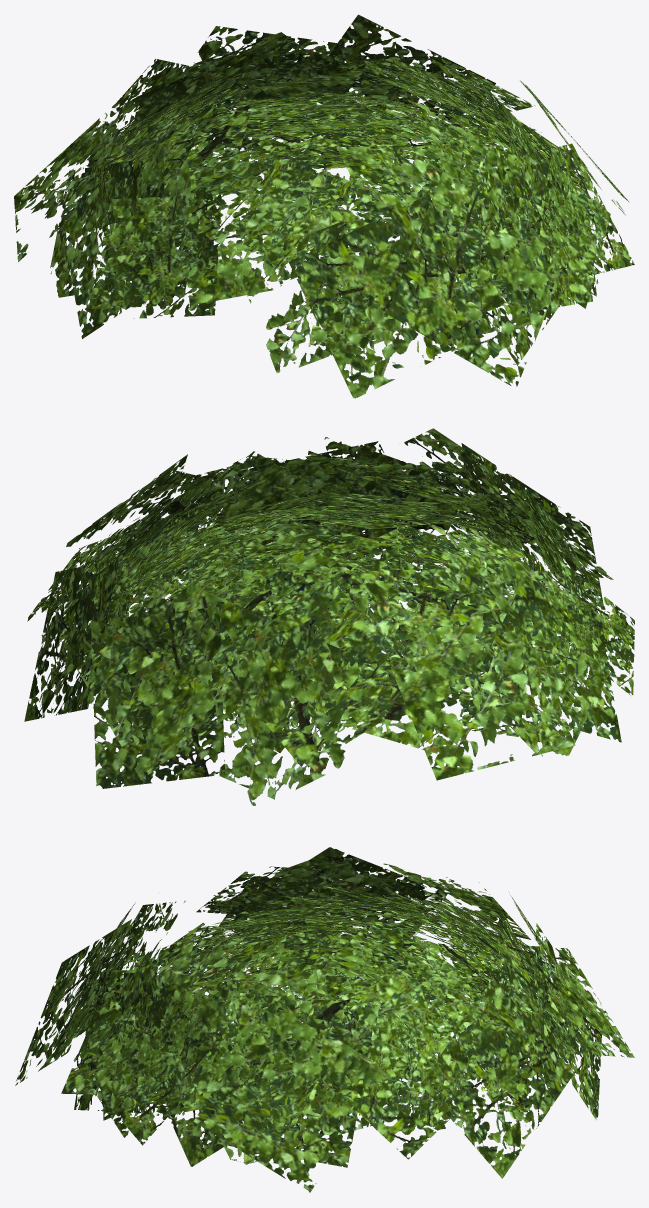
File: groundcover.glb
The picture shows the model from 3 angles, top to bottom: view 1: azimuth 30°, elevation 25°; view 2: azimuth 150°, elevation 25°; view 3: azimuth 270°, elevation 25°; orthographic projection. The views are drawn at different scales.
Parts seen in each view (by area): view 1: _MeshInstance3D_12; view 2: _MeshInstance3D_12; view 3: _MeshInstance3D_12.
Part boxes in pixels (x1=…): _MeshInstance3D_12: x1=14, y1=14, x2=634, y2=398; _MeshInstance3D_12: x1=24, y1=428, x2=634, y2=805; _MeshInstance3D_12: x1=15, y1=847, x2=634, y2=1192.
Bounding box in the file's own units: 1.43 × 0.4537 × 1.49.
1 material, 1 textured.
